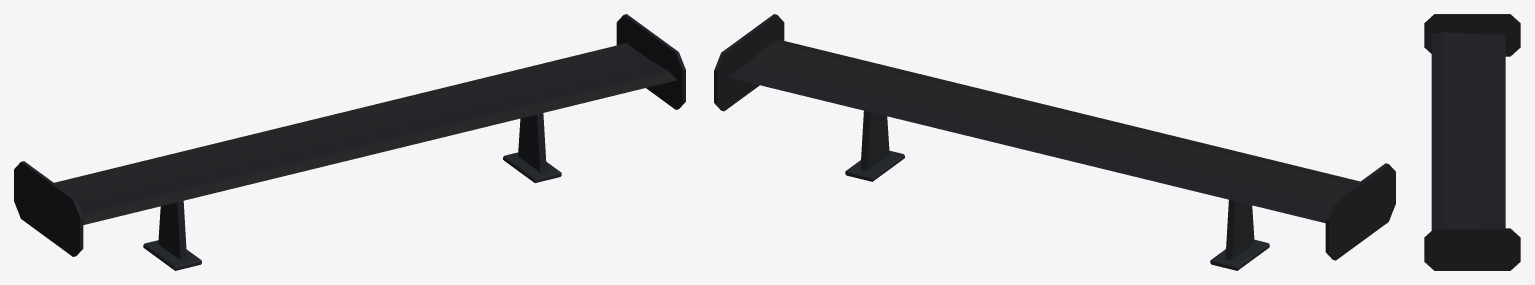
File: apex_v8.glb
3 views of the same model, side by side, from view 1: azimuth 30°, elevation 25°; view 2: azimuth 150°, elevation 25°; view 3: azimuth 270°, elevation 25° (orthographic). The views are drawn at different scales.
Parts seen in each view (by area): view 1: wing_element, model; view 2: wing_element, model; view 3: wing_element.
Part boxes in pixels (x1,y1,x2,y2): wing_element: (14, 14, 685, 256); model: (143, 113, 561, 270); wing_element: (714, 14, 1395, 260); model: (845, 110, 1269, 270); wing_element: (1424, 14, 1520, 270).
Bounding box in the file's own units: 1.52 × 0.2484 × 0.2859.
2 materials, 1 textured.
